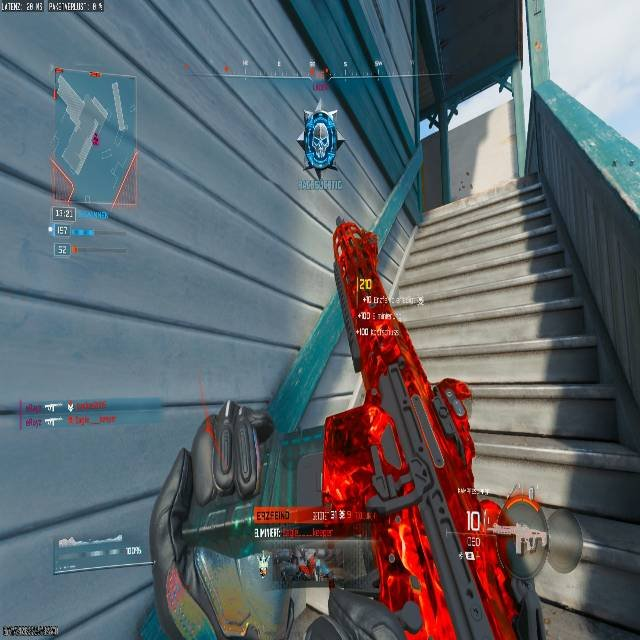player: (296, 109, 342, 172)
